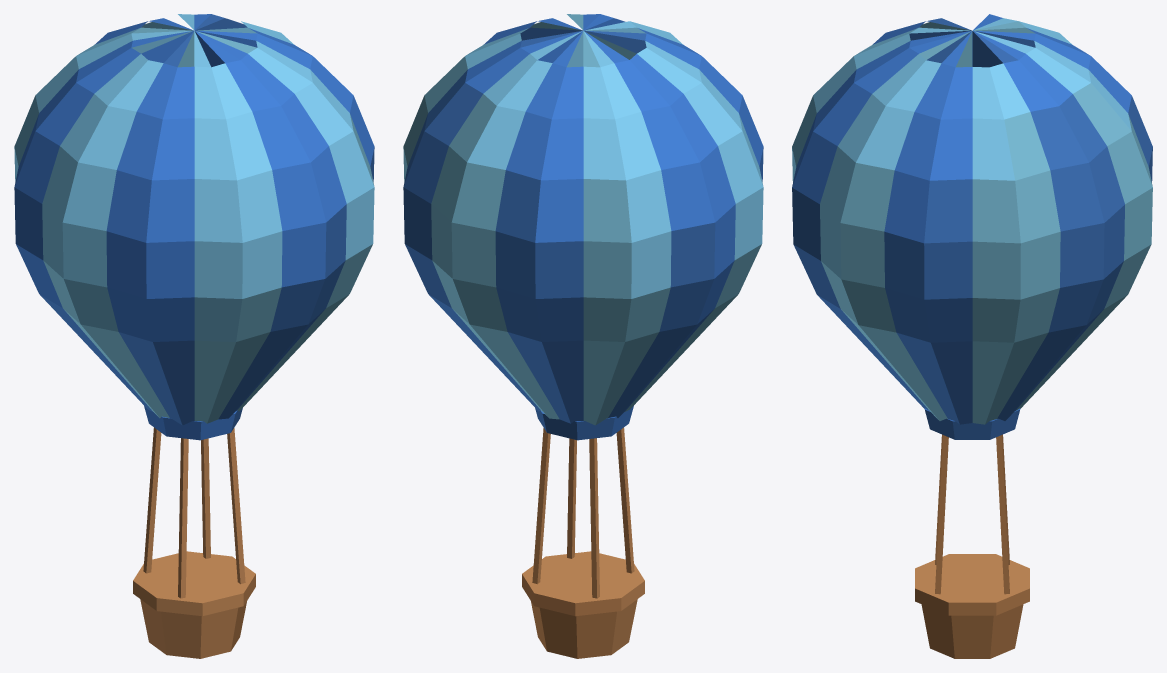
Rendered from balloon_round.glb.
The picture shows the model from 3 angles, left to right: view 1: azimuth 30°, elevation 25°; view 2: azimuth 150°, elevation 25°; view 3: azimuth 270°, elevation 25°; orthographic projection.
Parts seen in each view (by area): view 1: skin, basket, string, knot; view 2: skin, basket, string, knot; view 3: skin, basket, string, knot.
Part boxes in pixels (box(x1,y1,x2,y2)): skin: box(14, 14, 374, 425); basket: box(133, 551, 255, 658); string: box(143, 427, 245, 598); knot: box(144, 406, 242, 440); skin: box(403, 14, 763, 425); basket: box(522, 551, 644, 658); string: box(532, 427, 634, 598); knot: box(535, 406, 633, 440); skin: box(792, 14, 1152, 424); basket: box(915, 554, 1029, 658); string: box(935, 434, 1009, 594); knot: box(924, 408, 1020, 439).
Size of the model in its own units: 0.0627 by 0.117 by 0.0627.
